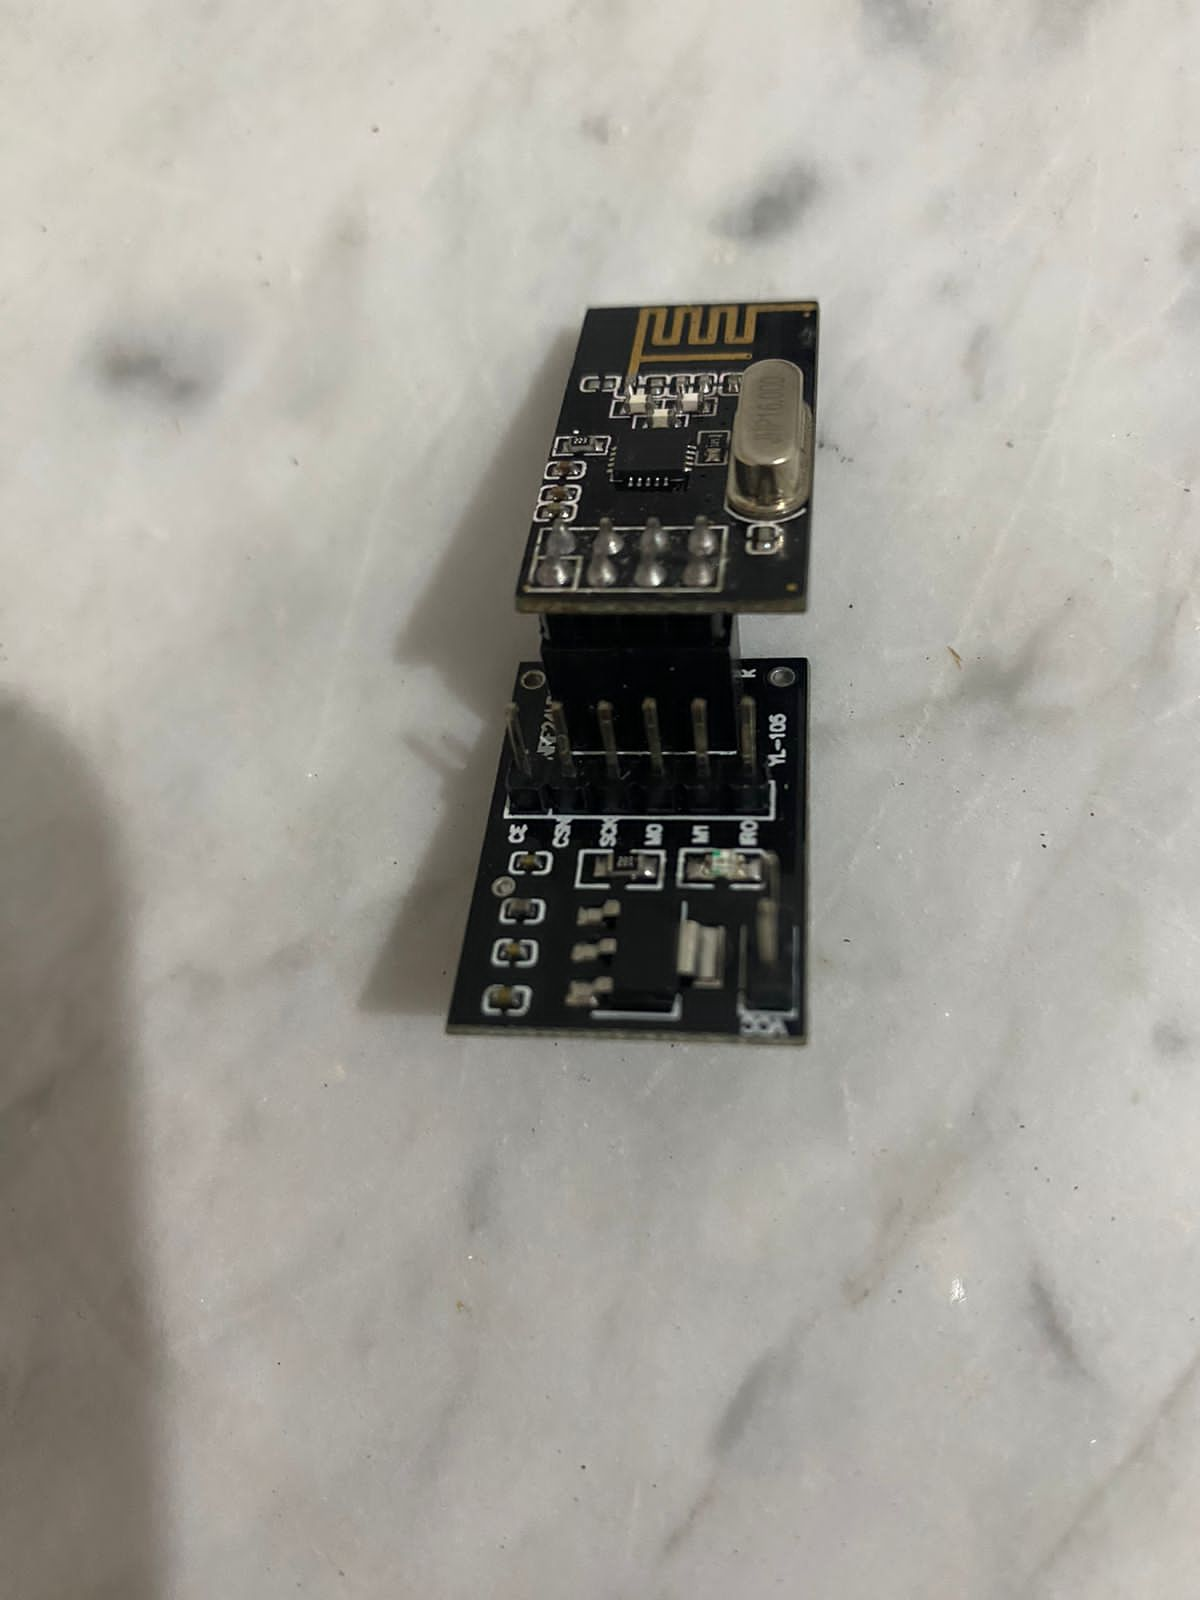RF-module: (436, 258, 870, 1089)
